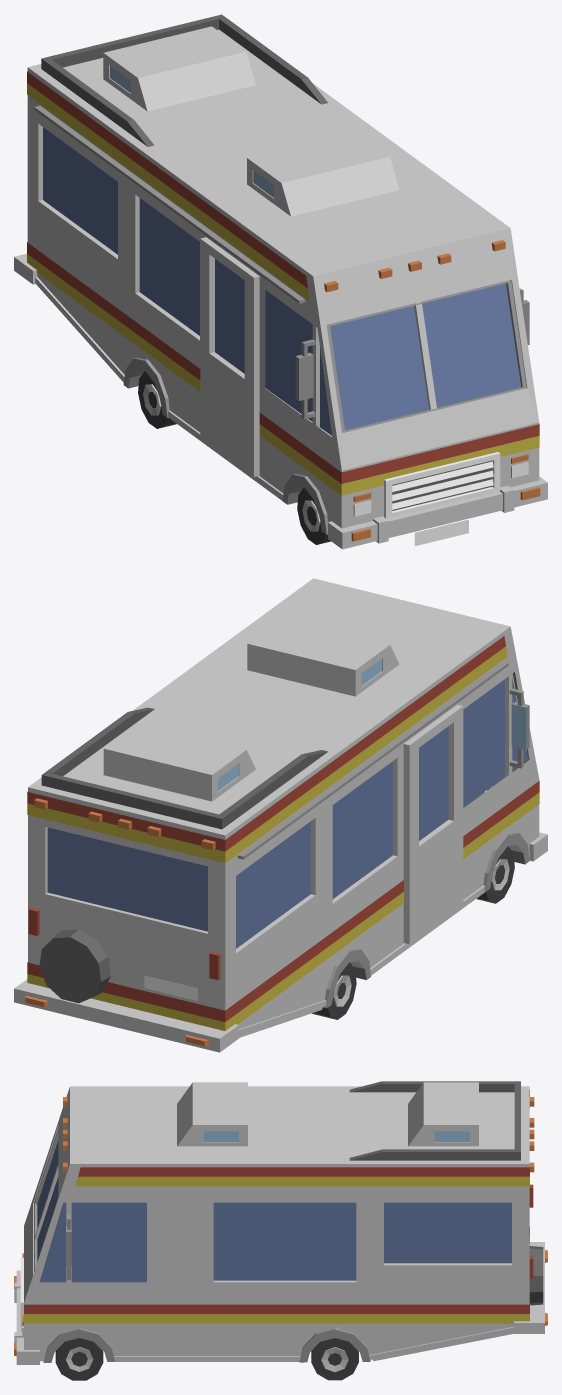
File: transport_bus_006.glb
The picture shows the model from 3 angles, top to bottom: view 1: azimuth 30°, elevation 25°; view 2: azimuth 150°, elevation 25°; view 3: azimuth 270°, elevation 25°; orthographic projection. The views are drawn at different scales.
Visible parts, largest first — view 1: transport_bus_006; view 2: transport_bus_006; view 3: transport_bus_006.
Part boxes in pixels (left/top/right/bottom): transport_bus_006: left=14, top=14, right=547, bottom=549; transport_bus_006: left=14, top=578, right=547, bottom=1052; transport_bus_006: left=14, top=1081, right=547, bottom=1380.
Size of the model in its own units: 2.02 by 2.5 by 5.03.
1 material, 1 textured.
